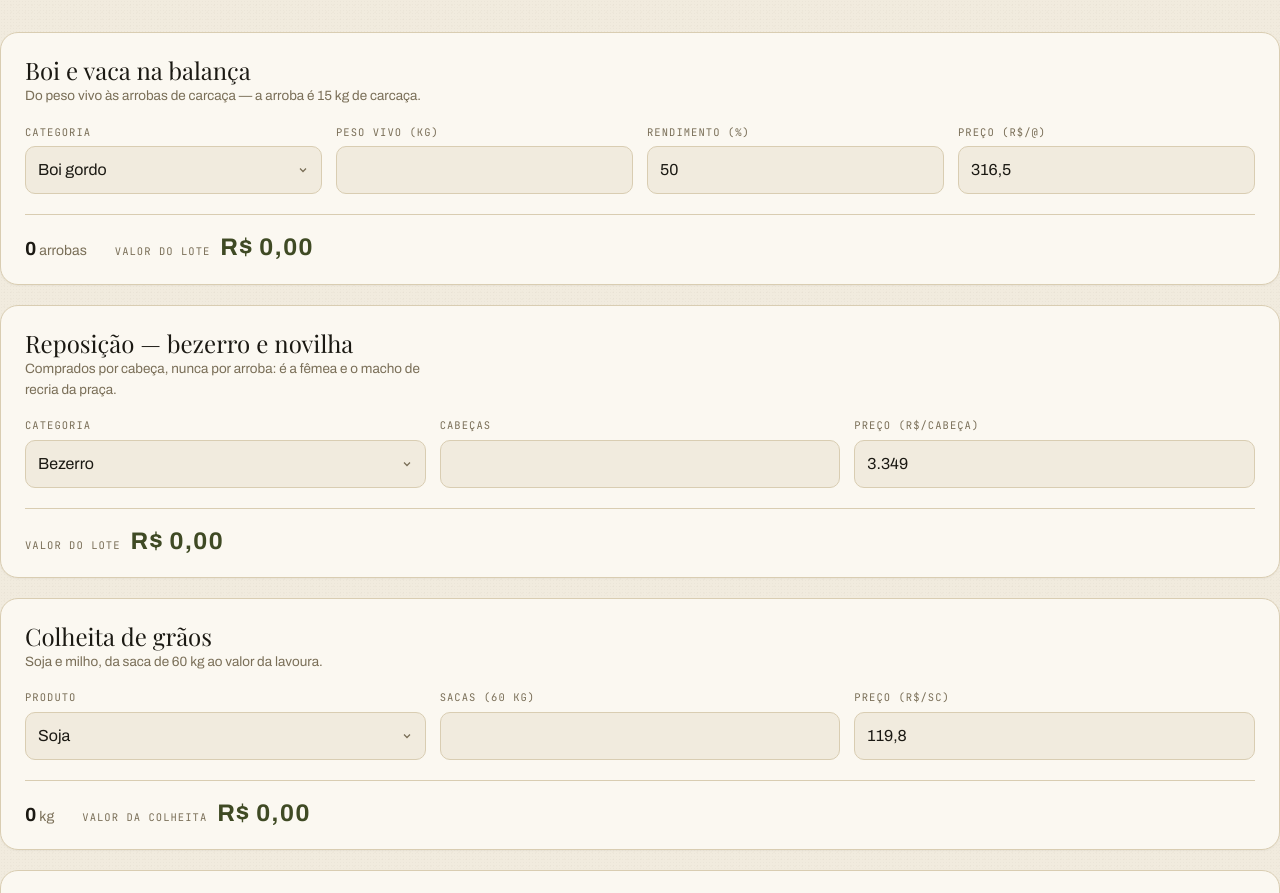
Calculadora › reposição abre no bezerro e troca o preço ao mudar para novilha
Expected: the field labelled "Preço (R$/cabeça)" holds "3.349", [854,440,1255,488]
Select "Novilha" in the dropdown named "categoria de reposição" at [225, 464], box [25,440,426,488]
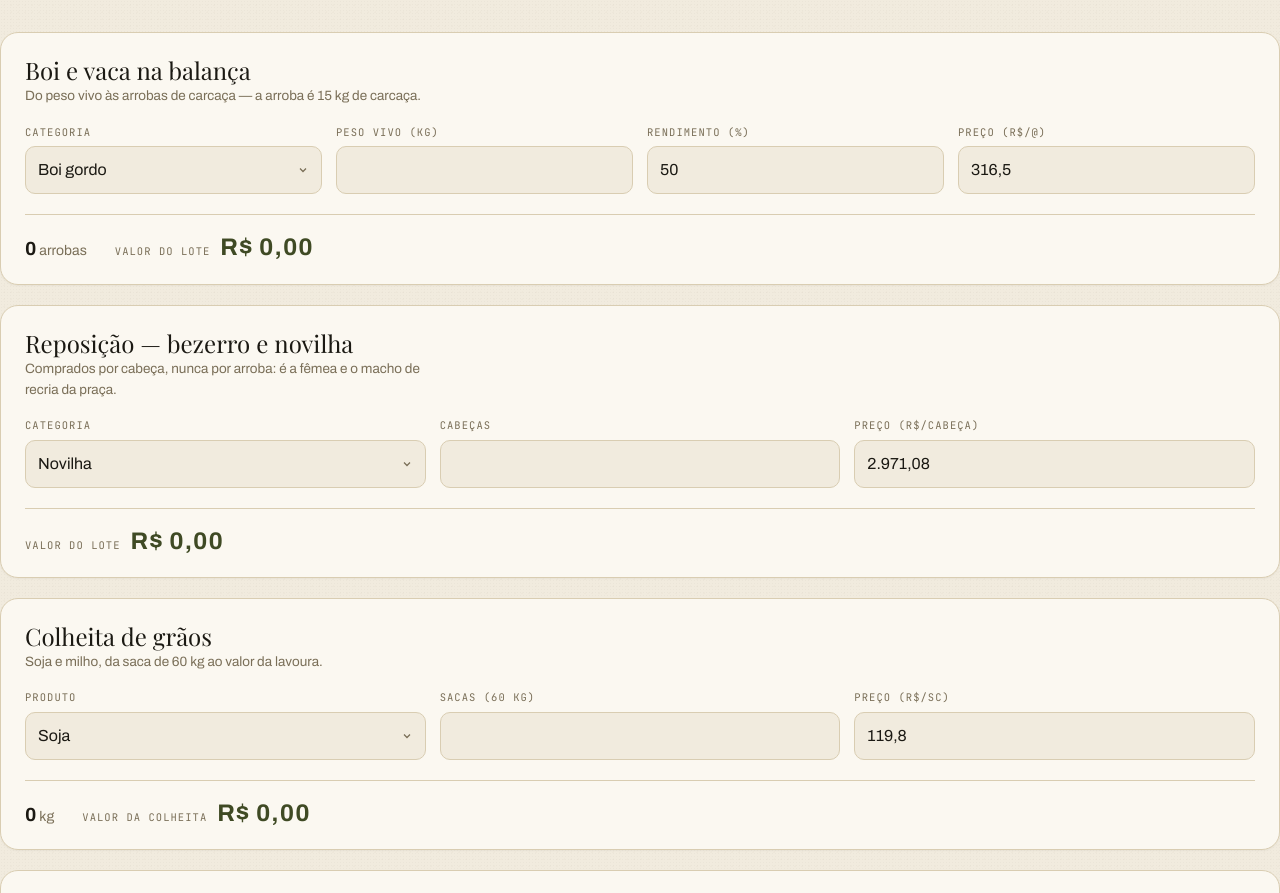
Result: the field labelled "Preço (R$/cabeça)" holds "2.971,08" at [854,440,1255,488]
